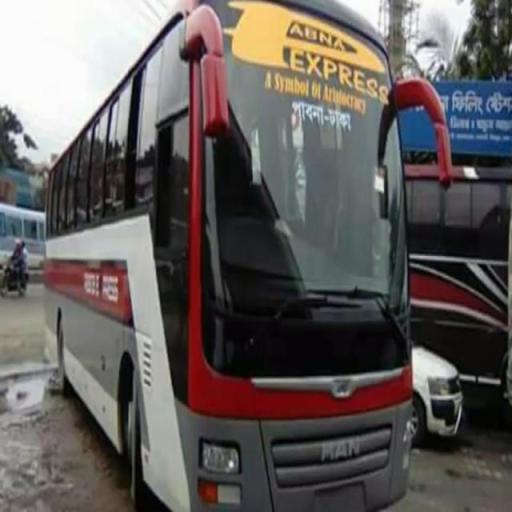onibus: (44, 1, 452, 511)
